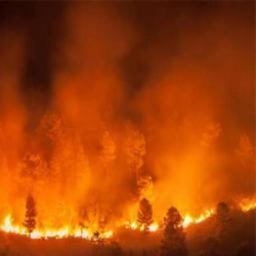Heavy smoke: (5, 21, 248, 170)
Medium fire: (0, 203, 256, 243)
